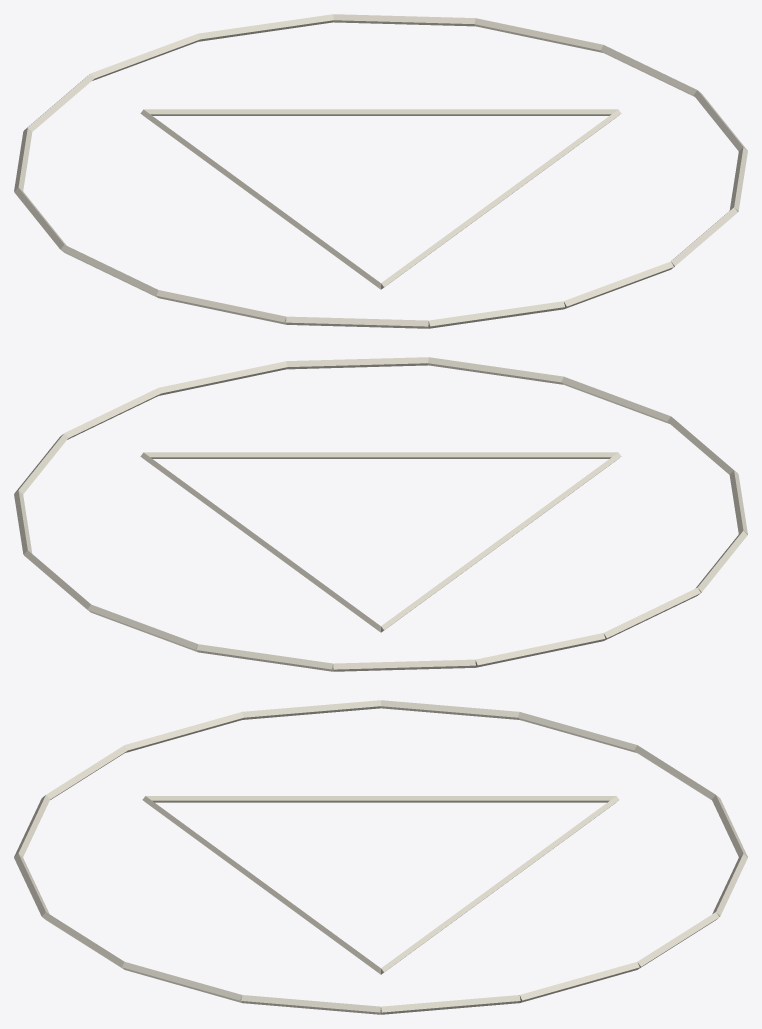
Rendered from blender_chalk_sigil_kit_1_deployed.glb.
The picture shows the model from 3 angles, top to bottom: view 1: azimuth 30°, elevation 25°; view 2: azimuth 150°, elevation 25°; view 3: azimuth 270°, elevation 25°; orthographic projection.
Parts seen in each view (by area): view 1: blender_chalk_sigil_kit_1_deployed; view 2: blender_chalk_sigil_kit_1_deployed; view 3: blender_chalk_sigil_kit_1_deployed.
Boxes of the visible parts, x1=… form: blender_chalk_sigil_kit_1_deployed: x1=14, y1=14, x2=747, y2=328; blender_chalk_sigil_kit_1_deployed: x1=14, y1=357, x2=747, y2=671; blender_chalk_sigil_kit_1_deployed: x1=14, y1=700, x2=747, y2=1014.
Size of the model in its own units: 0.4049 by 0.005 by 0.4049.
1 material, 1 textured.
